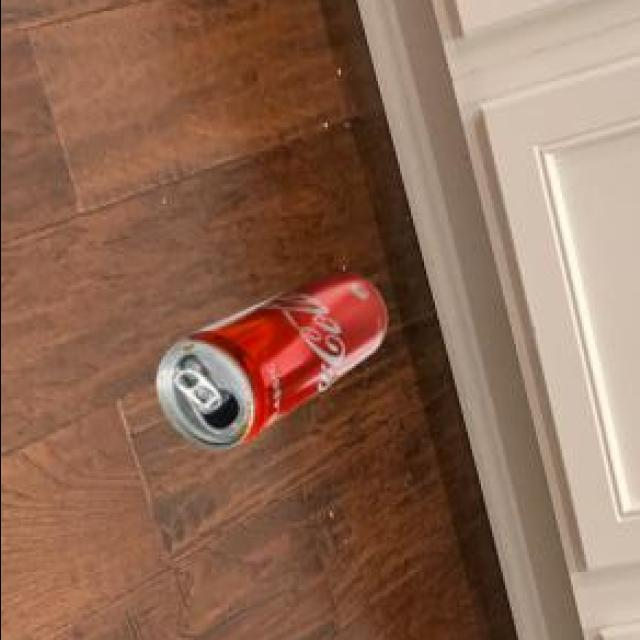logam: (159, 271, 389, 446)
